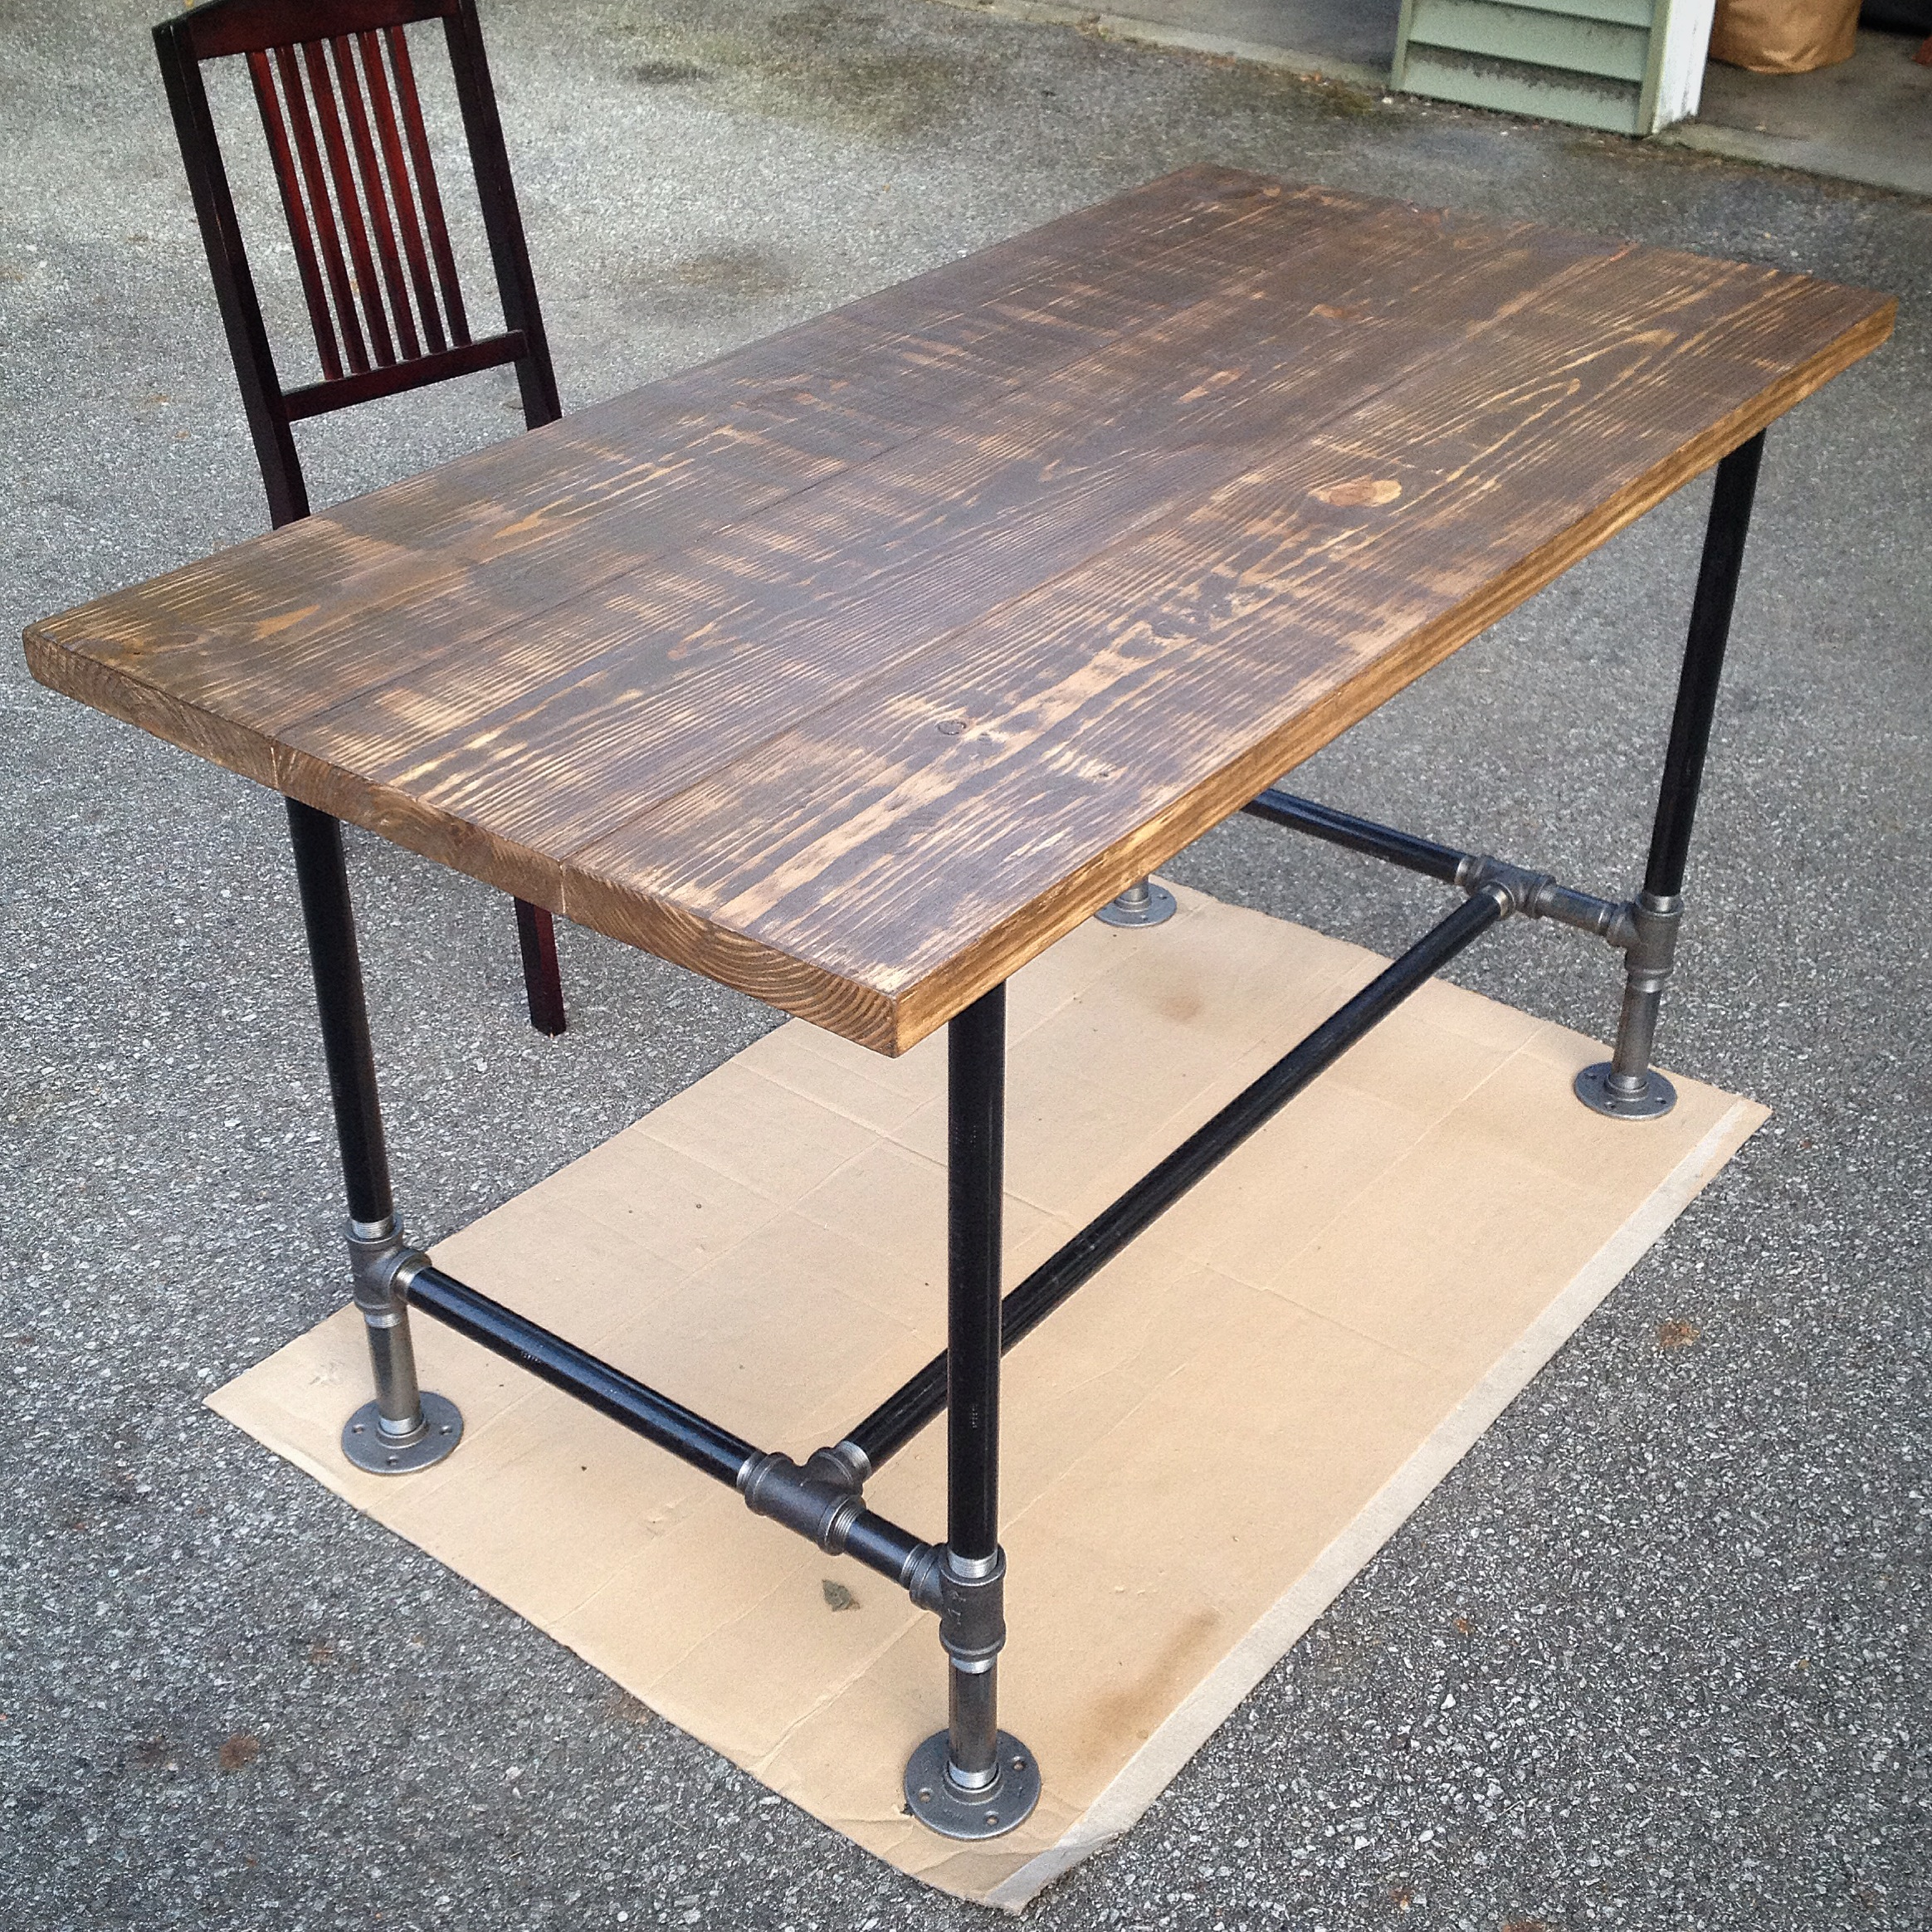chair: (125, 9, 706, 1049)
table: (22, 150, 1932, 1866)
